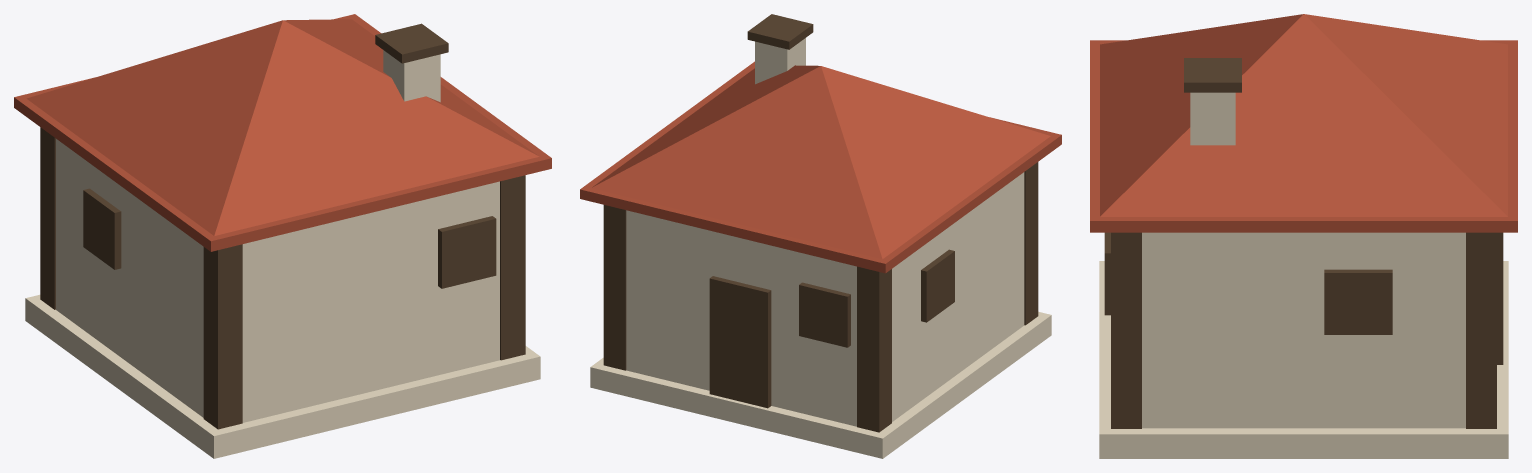
Rendered from house.glb.
3 views of the same model, side by side, from view 1: azimuth 30°, elevation 25°; view 2: azimuth 150°, elevation 25°; view 3: azimuth 270°, elevation 25° (orthographic). The views are drawn at different scales.
Parts seen in each view (by area): view 1: house_walls, house_roof, house_plinth, house, house_eave, house_window_b, house_window_l, house_chimney, house_chimney_cap; view 2: house_roof, house_walls, house_plinth, house, house_eave, house_door, house_window_f, house_window_l, house_chimney_cap, house_chimney; view 3: house_roof, house_walls, house_plinth, house, house_eave, house_window_r, house_chimney, house_chimney_cap, house_door, house_window_b.
Boxes of the visible parts, x1,y1,x2,y2 form: house_walls: [56, 139, 500, 422]; house_roof: [26, 19, 539, 235]; house_plinth: [25, 294, 540, 458]; house: [40, 127, 525, 429]; house_eave: [14, 14, 551, 251]; house_window_b: [438, 216, 496, 288]; house_window_l: [83, 188, 121, 269]; house_chimney: [383, 50, 440, 102]; house_chimney_cap: [375, 23, 448, 63]; house_roof: [591, 65, 1050, 259]; house_walls: [626, 172, 1024, 426]; house_plinth: [590, 311, 1051, 458]; house: [603, 162, 1038, 432]; house_eave: [580, 61, 1061, 273]; house_door: [709, 276, 771, 408]; house_window_f: [799, 282, 850, 347]; house_window_l: [921, 249, 954, 322]; house_chimney_cap: [747, 14, 813, 49]; house_chimney: [755, 38, 805, 84]; house_roof: [1100, 14, 1507, 216]; house_walls: [1142, 232, 1465, 428]; house_plinth: [1099, 261, 1508, 458]; house: [1111, 232, 1496, 428]; house_eave: [1090, 40, 1517, 232]; house_window_r: [1324, 269, 1392, 334]; house_chimney: [1190, 92, 1235, 145]; house_chimney_cap: [1184, 58, 1241, 92]; house_door: [1497, 232, 1503, 364]; house_window_b: [1104, 232, 1110, 315].
Bounding box in the file's own units: 4.7 × 4.34 × 4.7.
